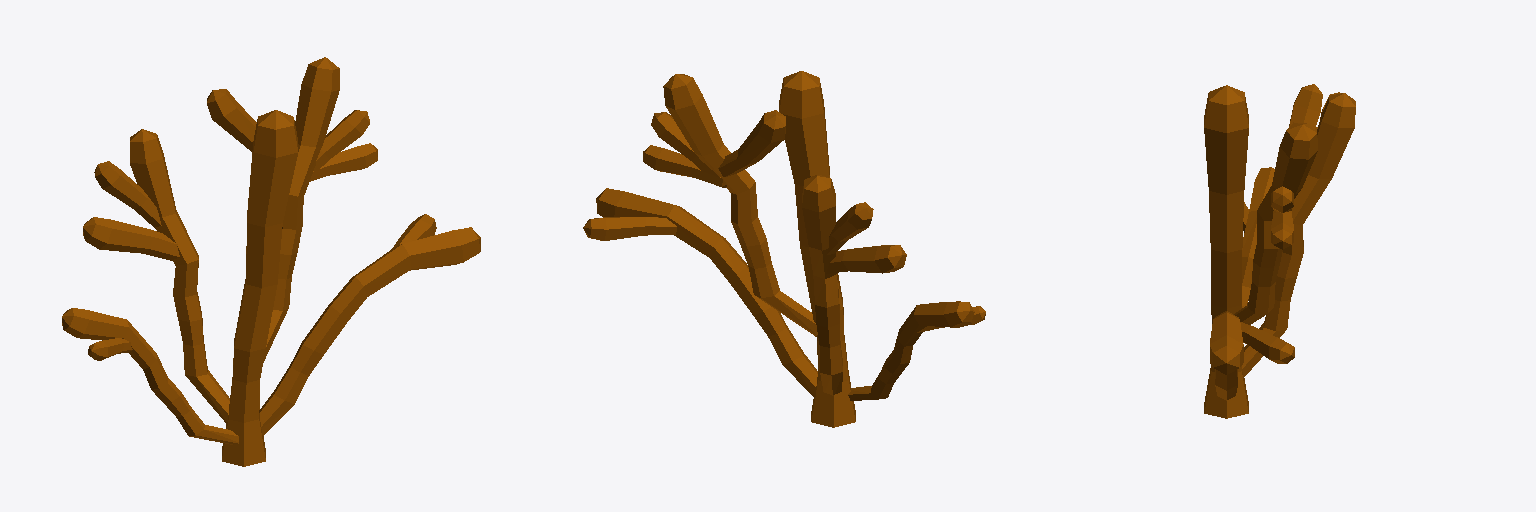
File: coral3.obj
3 views of the same model, side by side, from view 1: azimuth 30°, elevation 25°; view 2: azimuth 150°, elevation 25°; view 3: azimuth 270°, elevation 25° (orthographic).
Parts seen in each view (by area): view 1: pCylinder13; view 2: pCylinder13; view 3: pCylinder13.
Part boxes in pixels (bbox=[...]): pCylinder13: bbox=[62, 57, 480, 466]; pCylinder13: bbox=[583, 71, 985, 427]; pCylinder13: bbox=[1204, 84, 1355, 418].
Size of the model in its own units: 22.2 by 18.29 by 7.36.